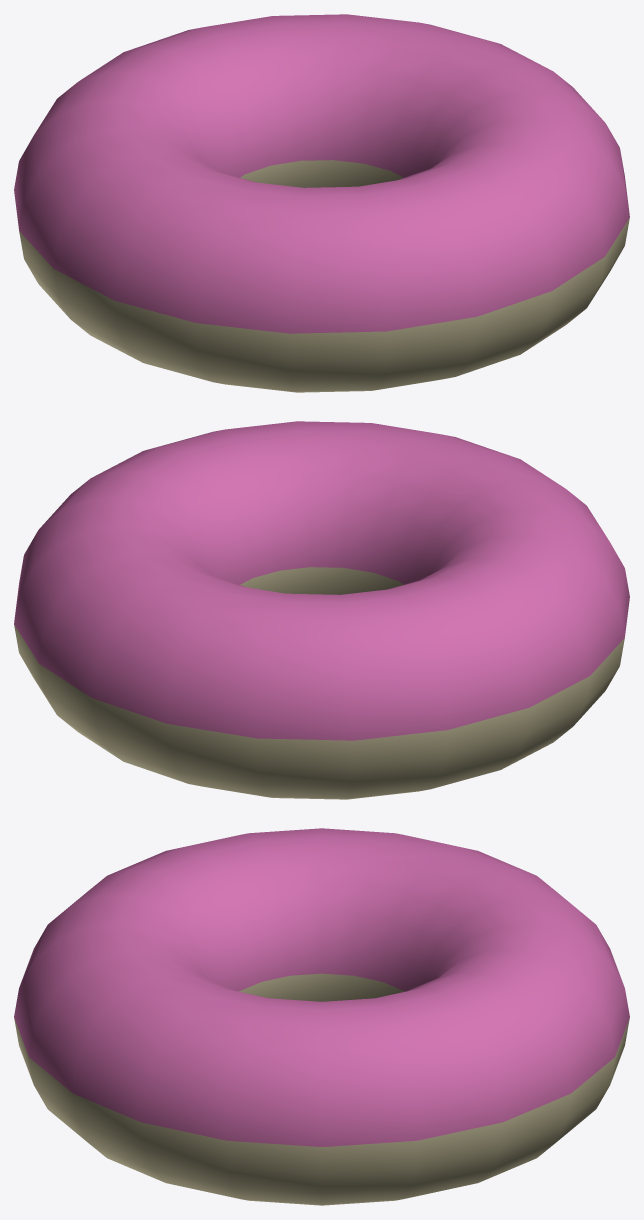
File: donut.fbx
The picture shows the model from 3 angles, top to bottom: view 1: azimuth 30°, elevation 25°; view 2: azimuth 150°, elevation 25°; view 3: azimuth 270°, elevation 25°; orthographic projection.
Visible parts, largest first — view 1: pTorus1; view 2: pTorus1; view 3: pTorus1.
Boxes of the visible parts, x1,y1,x2,y2 form: pTorus1: (14,14,629,392); pTorus1: (14,421,629,799); pTorus1: (14,828,629,1205).
Bounding box in the file's own units: 3 × 1 × 3.
